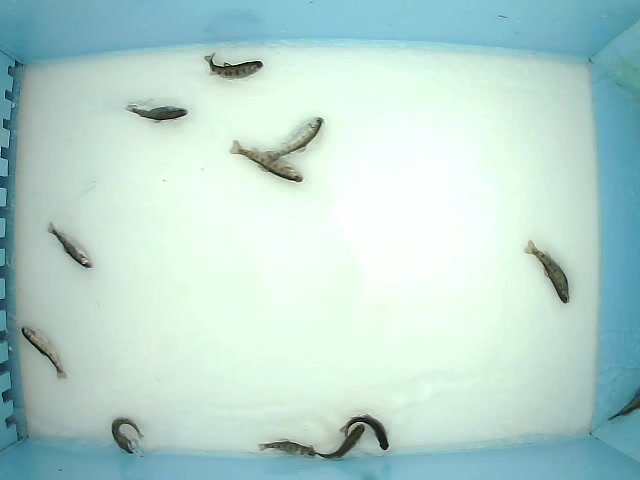fish: (228, 138, 305, 184), (258, 114, 326, 166), (523, 239, 572, 305), (21, 325, 70, 381), (46, 221, 96, 269), (309, 423, 366, 464), (203, 51, 265, 82), (339, 415, 391, 451), (256, 434, 316, 460), (123, 102, 190, 125), (110, 416, 145, 455)
